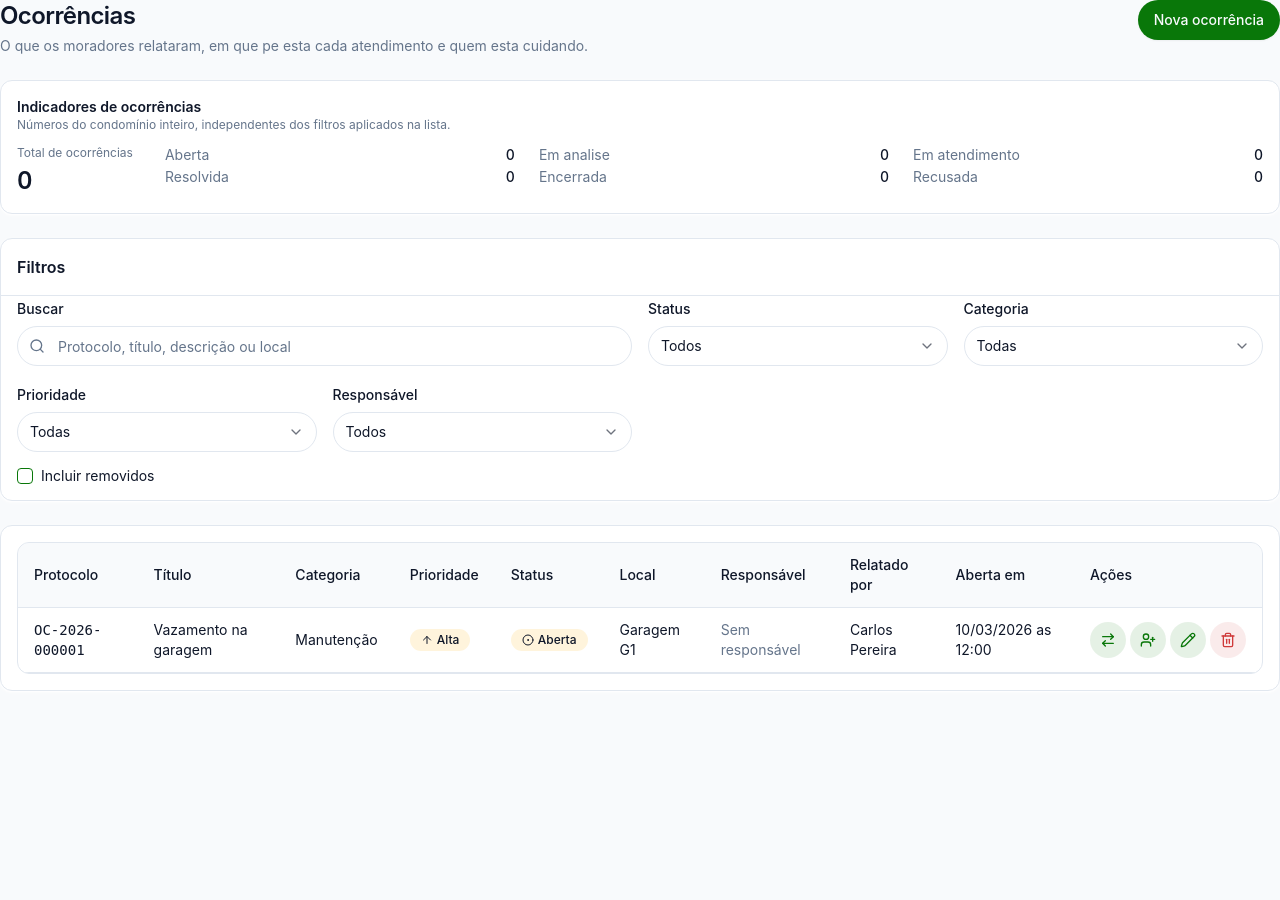
Test case: Mudança de status › o status atual não e oferecido como destino
Check: the text "Vazamento na garagem" is shown, box [138,608,279,672]
Click the button named "Mudar status de OC-2026-000001" at coordinates (1108, 640), box [1090,622,1126,658]
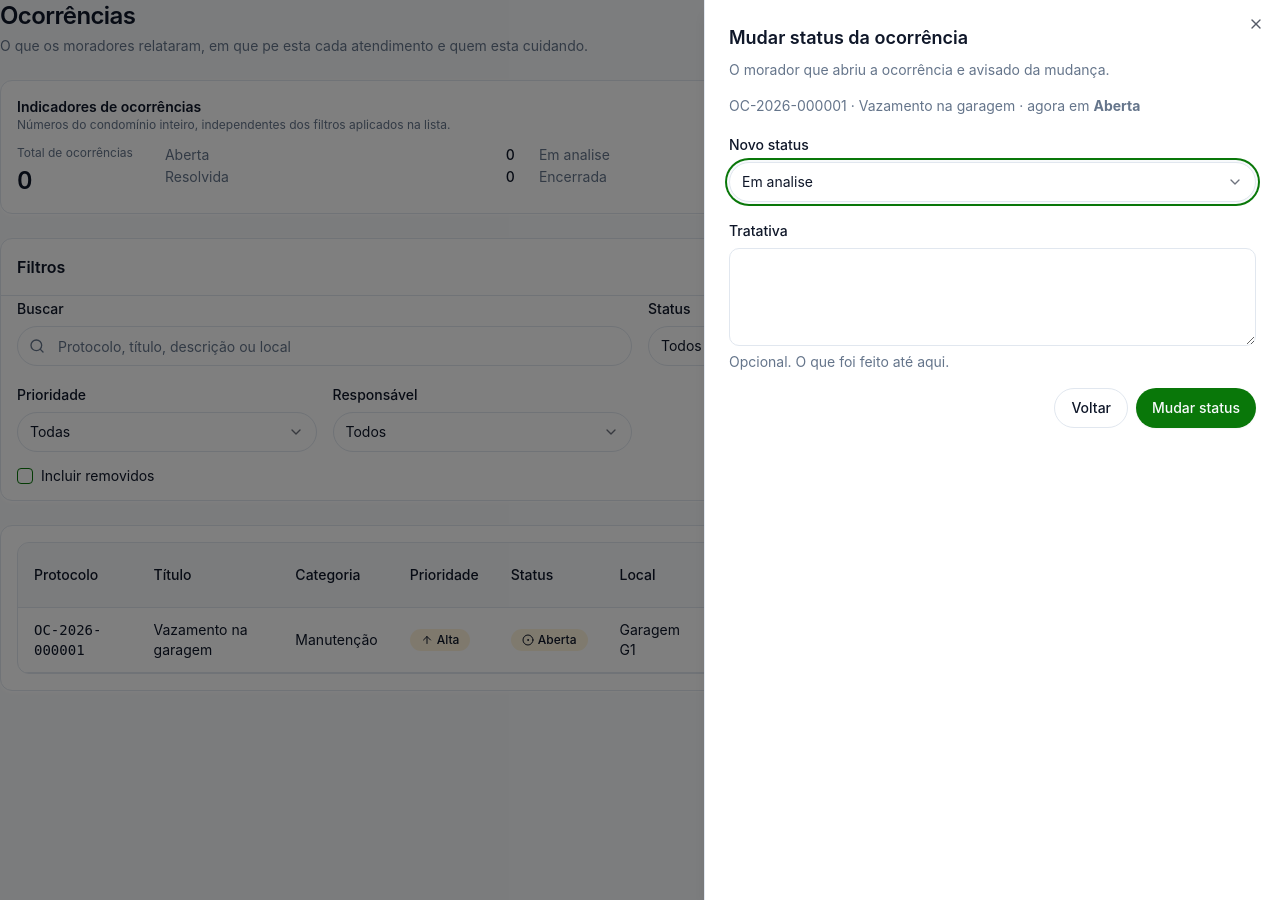
Check: the dropdown named "Novo status" is shown
Press Enter in the dropdown labelled "Em analise", box [729,162,1256,202]
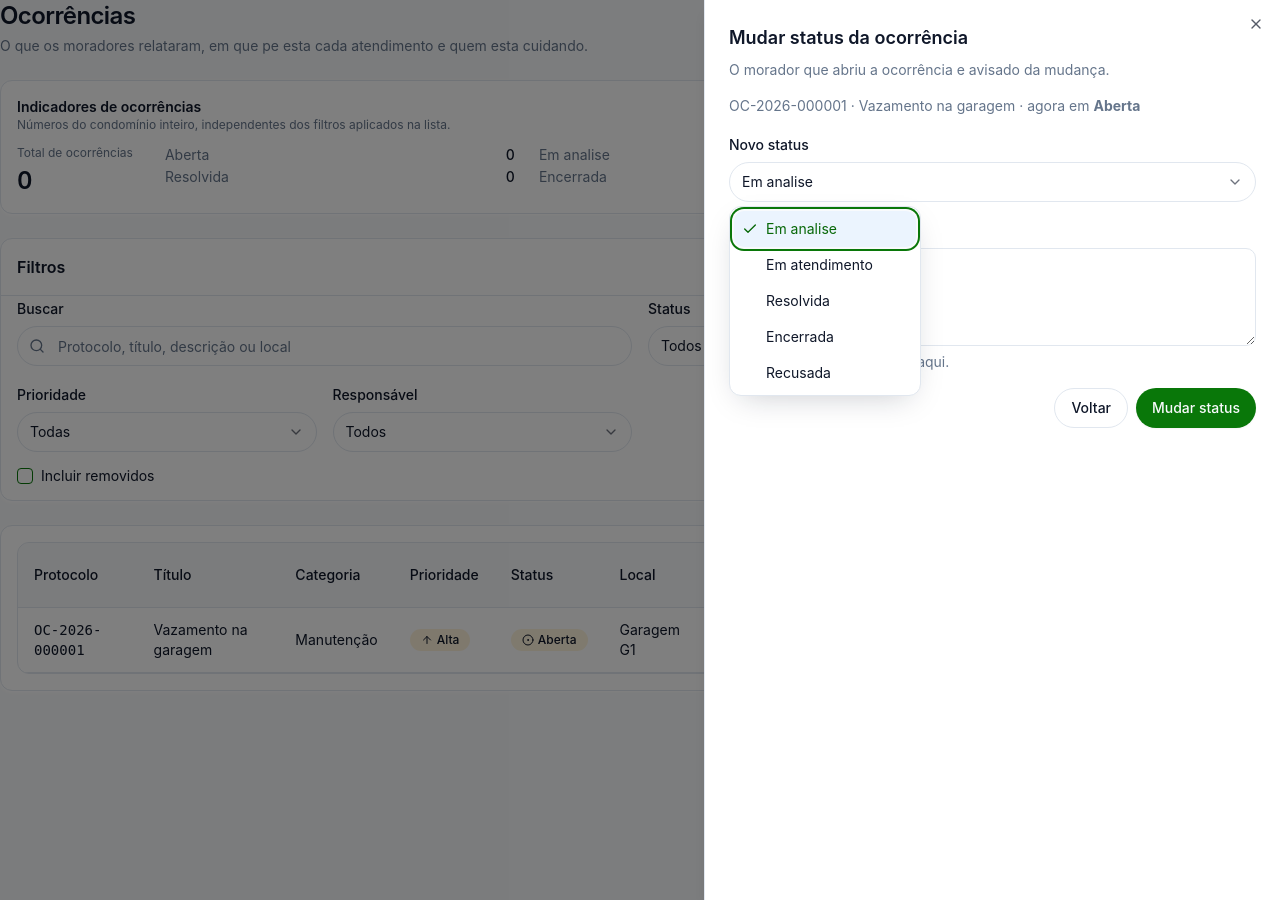
Check: the option does not show "Aberta"
Check: the options read "Em analise", "Em atendimento", "Resolvida", "Encerrada", "Recusada", in this order, box [734,211,916,247]; [766,256,873,273]; [766,292,830,309]; [766,328,834,345]; [766,364,831,381]
